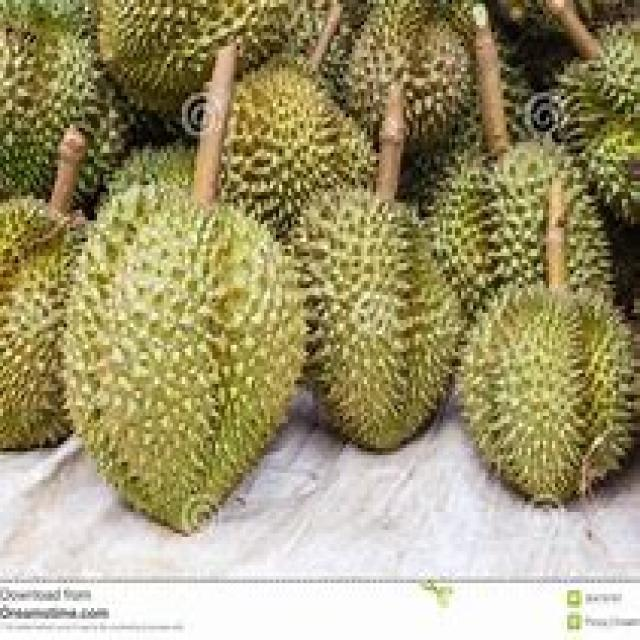immature: (62, 185, 305, 533), (292, 189, 464, 449), (459, 284, 631, 503)
